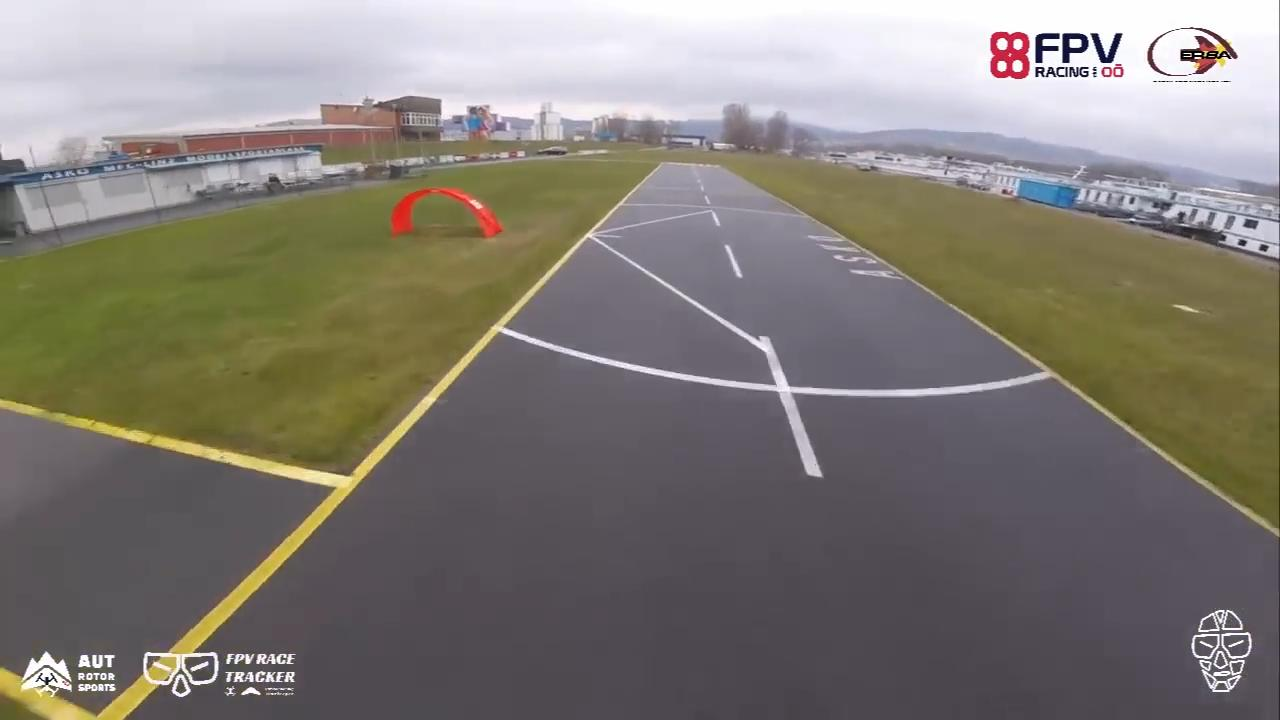gate: (387, 187, 503, 240)
